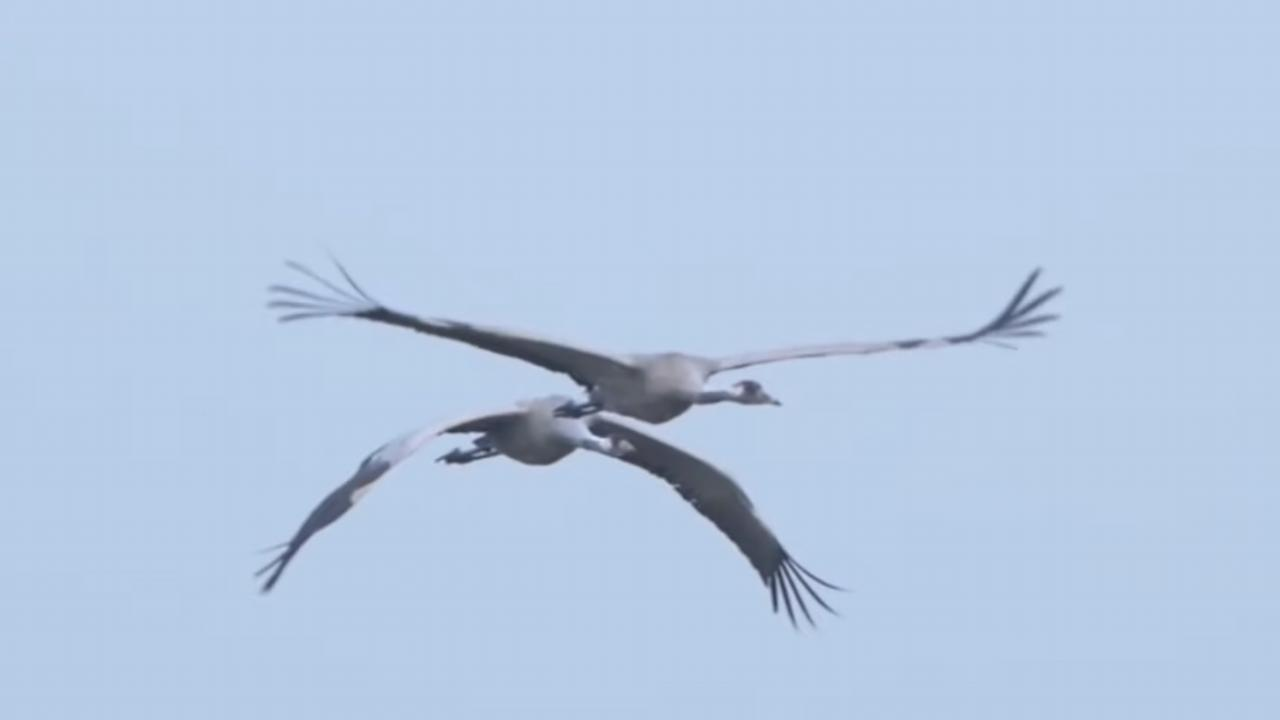Bird: (238, 386, 858, 642), (254, 245, 1076, 429)
